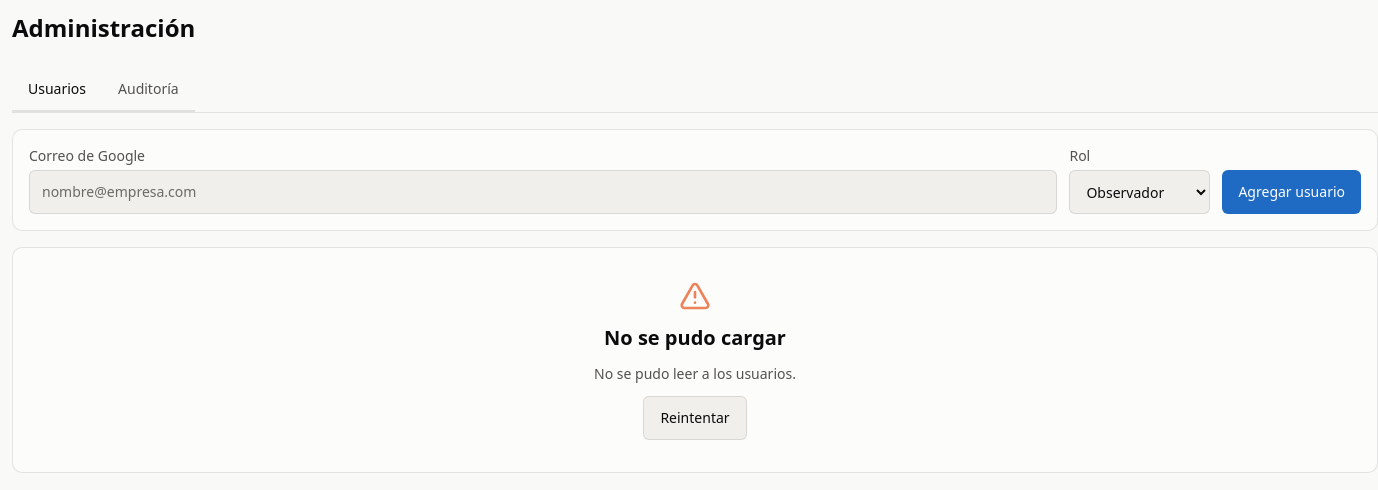
Test: AdminPage - usuarios › error al cargar: mensaje y Reintentar
The width and height of the screenshot is (1378, 490).
Expected: the text "No se pudo leer a los usuarios." is shown, [594,364,796,384]
Click the button "Reintentar": [695, 418] box [643,396,747,440]
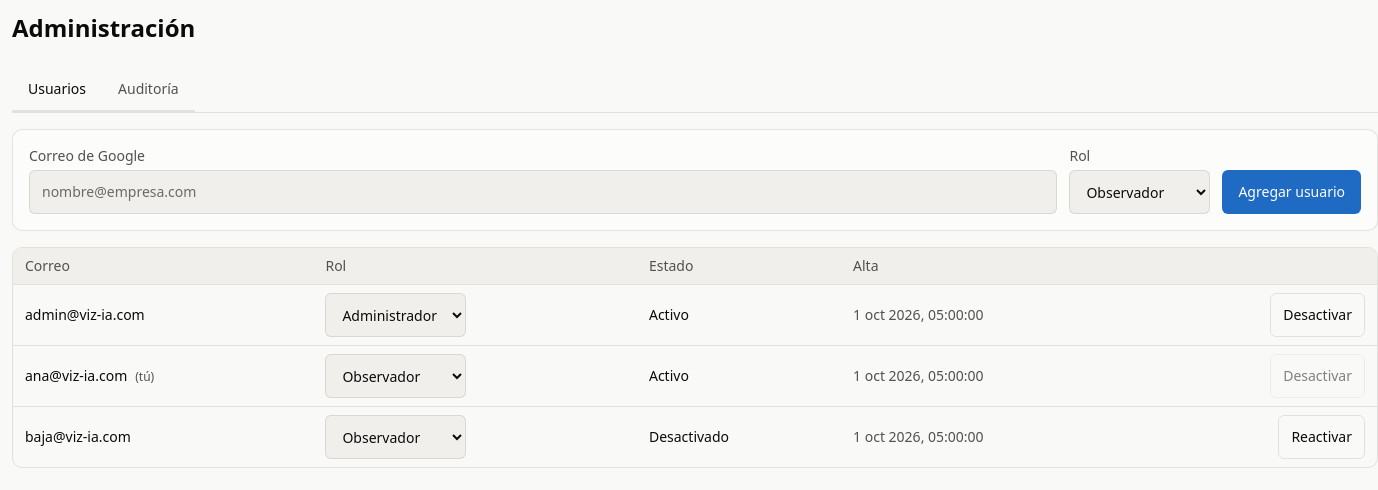
Expected: the column heading "ana@viz-ia.com" is shown, [25,366,127,385]
